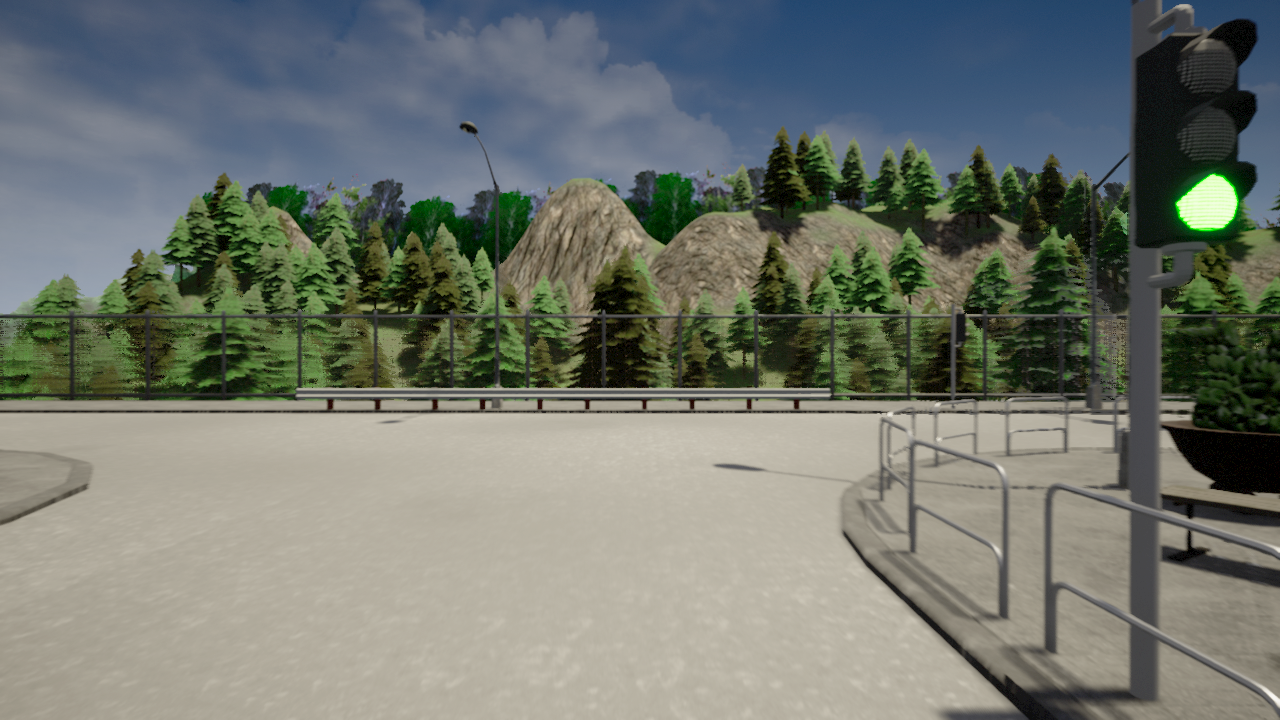green: (1141, 11, 1273, 254)
